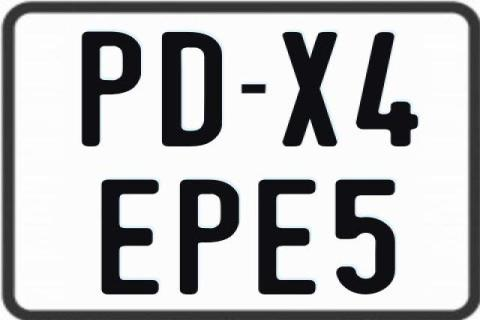0: (332, 179, 396, 297), (354, 30, 417, 146)
D: (160, 31, 220, 148)
E: (98, 177, 160, 293), (255, 178, 314, 296)
P: (81, 30, 141, 148), (179, 179, 239, 295)
X: (282, 32, 342, 150)
